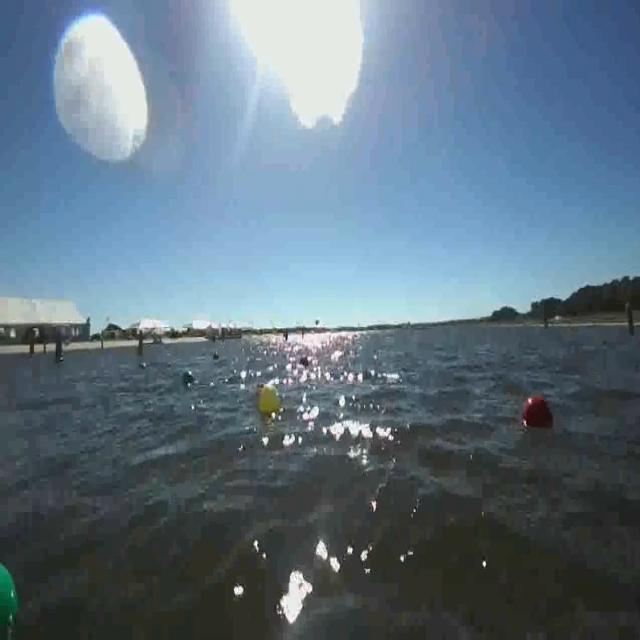green-buoy: (0, 557, 20, 633)
red-buoy: (520, 392, 554, 432)
yellow-buoy: (260, 382, 283, 418)
